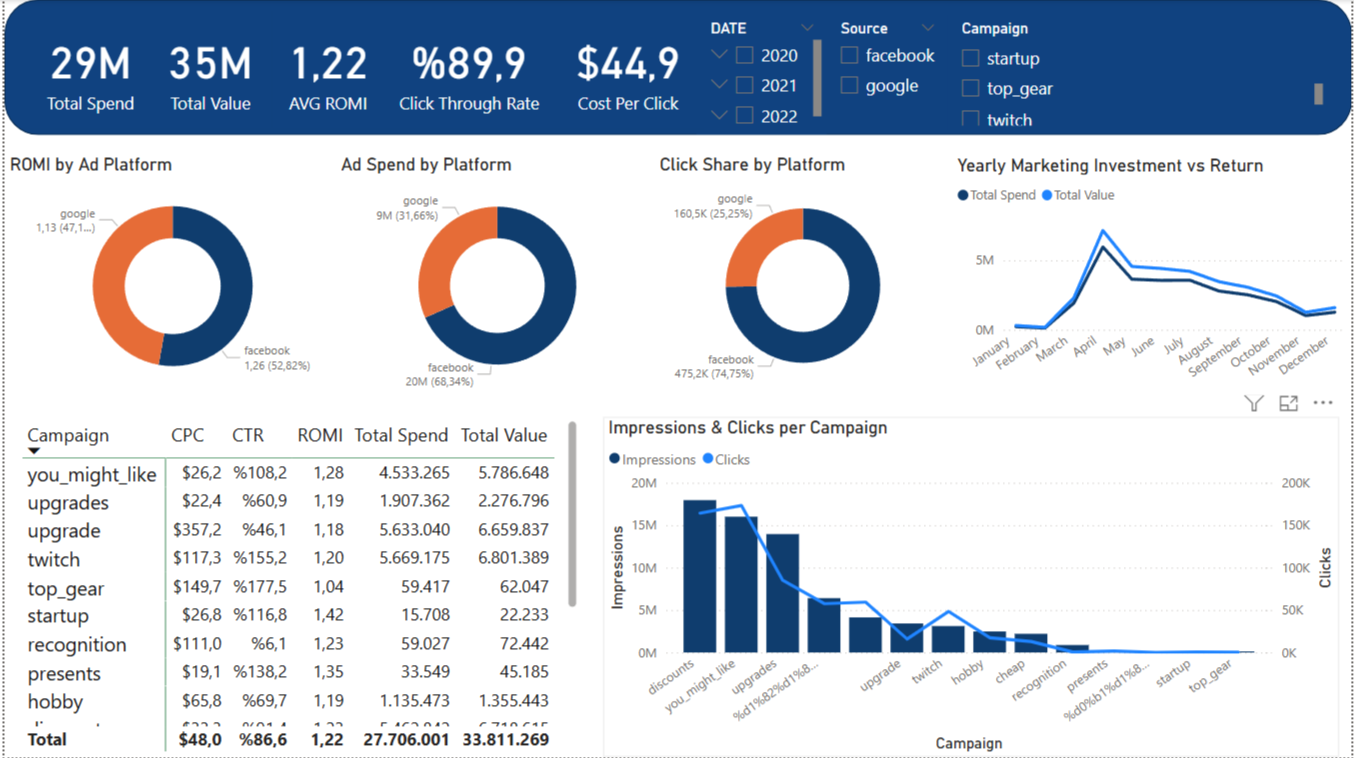

The page's visual inventory and layout, read from the dashboard file:
{"tool":"powerbi","page":{"name":"Page 2","canvas":[1280,720],"ordinal":0},"visuals":[{"type":"shape","box":[0,0,1280,128.8],"z":0},{"type":"slicer","fields":{"Values":["marketting_campaign_analysis.ad_date.Variation.Date Hierarchy.Year","marketting_campaign_analysis.ad_date.Variation.Date Hierarchy.Quarter","marketting_campaign_analysis.ad_date.Variation.Date Hierarchy.Month","marketting_campaign_analysis.ad_date.Variation.Date Hierarchy.Day"]},"box":[657.8,14.2,123.5,114],"z":1000},{"type":"slicer","fields":{"Values":["marketting_campaign_analysis.utm_source"]},"box":[781.3,14.7,114.7,110.7],"z":2000},{"type":"slicer","fields":{"Values":["marketting_campaign_analysis.utm_campaign"]},"box":[896,14.7,361.3,110.7],"z":3000},{"type":"card","fields":{"Values":["Sum(marketting_campaign_analysis.spend)"]},"box":[23.7,10.9,116.4,111.6],"z":4000},{"type":"card","fields":{"Values":["marketting_campaign_analysis.AVG_ROMI"]},"box":[251.7,10.9,111.6,111.6],"z":5000},{"type":"card","fields":{"Values":["marketting_campaign_analysis.CTR_new"]},"box":[361,10.9,161.5,111.6],"z":6000},{"type":"card","fields":{"Values":["marketting_campaign_analysis.CPC_new"]},"box":[520.1,10.9,144.9,111.6],"z":7000},{"type":"donutChart","title":"Ad Spend by Platform","fields":{"Category":["marketting_campaign_analysis.utm_source"],"Y":["Sum(marketting_campaign_analysis.spend)"]},"box":[314.6,146.3,307.5,232.7],"z":8000},{"type":"donutChart","title":"Click Share by Platform","fields":{"Category":["marketting_campaign_analysis.utm_source"],"Y":["Sum(marketting_campaign_analysis.clicks)"]},"box":[617.4,146.3,282.6,232.7],"z":9000},{"type":"donutChart","title":"ROMI by Ad Platform","fields":{"Y":["marketting_campaign_analysis.ROMI"],"Category":["marketting_campaign_analysis.utm_source"]},"box":[0,145.8,320,233.8],"z":10000},{"type":"pivotTable","fields":{"Rows":["marketting_campaign_analysis.utm_campaign"],"Values":["marketting_campaign_analysis.CPC_new","marketting_campaign_analysis.CTR_new","marketting_campaign_analysis.ROMI","Sum(marketting_campaign_analysis.spend)","Sum(marketting_campaign_analysis.value)"]},"box":[11.4,395.7,537.1,324.3],"z":11000},{"type":"lineClusteredColumnComboChart","title":"Impressions & Clicks per Campaign","fields":{"Category":["marketting_campaign_analysis.utm_campaign"],"Y":["Sum(marketting_campaign_analysis.impressions)"],"Y2":["Sum(marketting_campaign_analysis.clicks)"]},"box":[568.8,396.2,698.8,323.8],"z":12000},{"type":"lineChart","title":"Yearly Marketing Investment vs Return","fields":{"Category":["marketting_campaign_analysis.ad_date.Variation.Date Hierarchy.Month"],"Y":["Sum(marketting_campaign_analysis.spend)","Sum(marketting_campaign_analysis.value)"]},"box":[900,147.5,380,228.8],"z":13000},{"type":"card","fields":{"Values":["Sum(marketting_campaign_analysis.value)"]},"box":[137.7,10.9,116.4,111.6],"z":14000}]}

Visuals, with their boxes in screenshot pixels (x1, y1, x2, y2), scaled from the page's 1280x720 canvas onto the 1354x758 screenshot:
shape: box(0, 0, 1353, 136)
slicer - marketting_campaign_analysis.ad_date.Variation.Date Hierarchy.Year x marketting_campaign_analysis.ad_date.Variation.Date Hierarchy.Quarter: box(696, 15, 826, 135)
slicer - marketting_campaign_analysis.utm_source: box(826, 15, 948, 132)
slicer - marketting_campaign_analysis.utm_campaign: box(948, 15, 1330, 132)
card - Sum(marketting_campaign_analysis.spend): box(25, 11, 148, 129)
card - marketting_campaign_analysis.AVG_ROMI: box(266, 11, 384, 129)
card - marketting_campaign_analysis.CTR_new: box(382, 11, 553, 129)
card - marketting_campaign_analysis.CPC_new: box(550, 11, 703, 129)
"Ad Spend by Platform" donutChart: box(333, 154, 658, 399)
"Click Share by Platform" donutChart: box(653, 154, 952, 399)
"ROMI by Ad Platform" donutChart: box(0, 153, 338, 400)
pivotTable - marketting_campaign_analysis.utm_campaign x marketting_campaign_analysis.CPC_new: box(12, 417, 580, 757)
"Impressions & Clicks per Campaign" lineClusteredColumnComboChart: box(602, 417, 1341, 757)
"Yearly Marketing Investment vs Return" lineChart: box(952, 155, 1353, 396)
card - Sum(marketting_campaign_analysis.value): box(146, 11, 269, 129)
